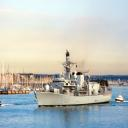Fragata: (35, 51, 114, 109)
